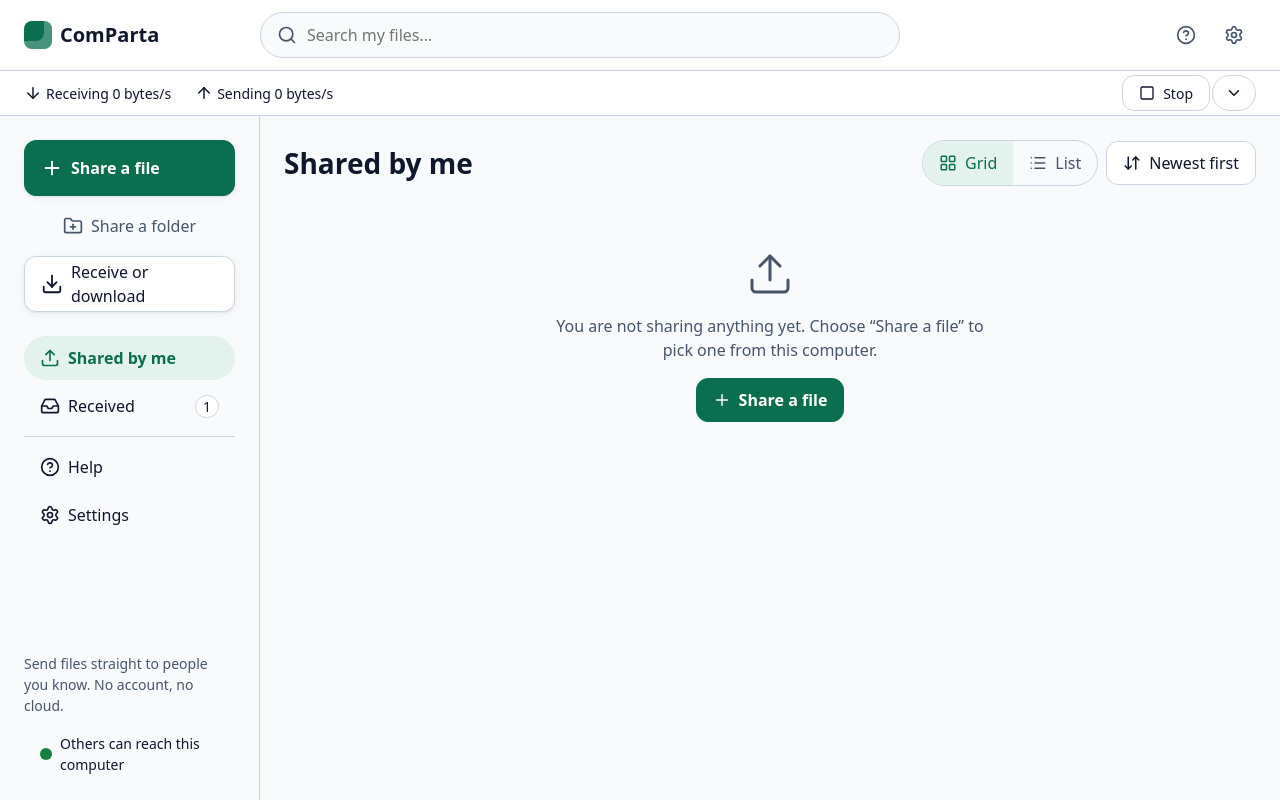
it: downloading from a link or a download file › offers no pause for a finished file
What coordinates should you click on to do the following:
click the button "Received 1"
I would click on:
 (130, 406)
Its box is [24, 384, 235, 428].
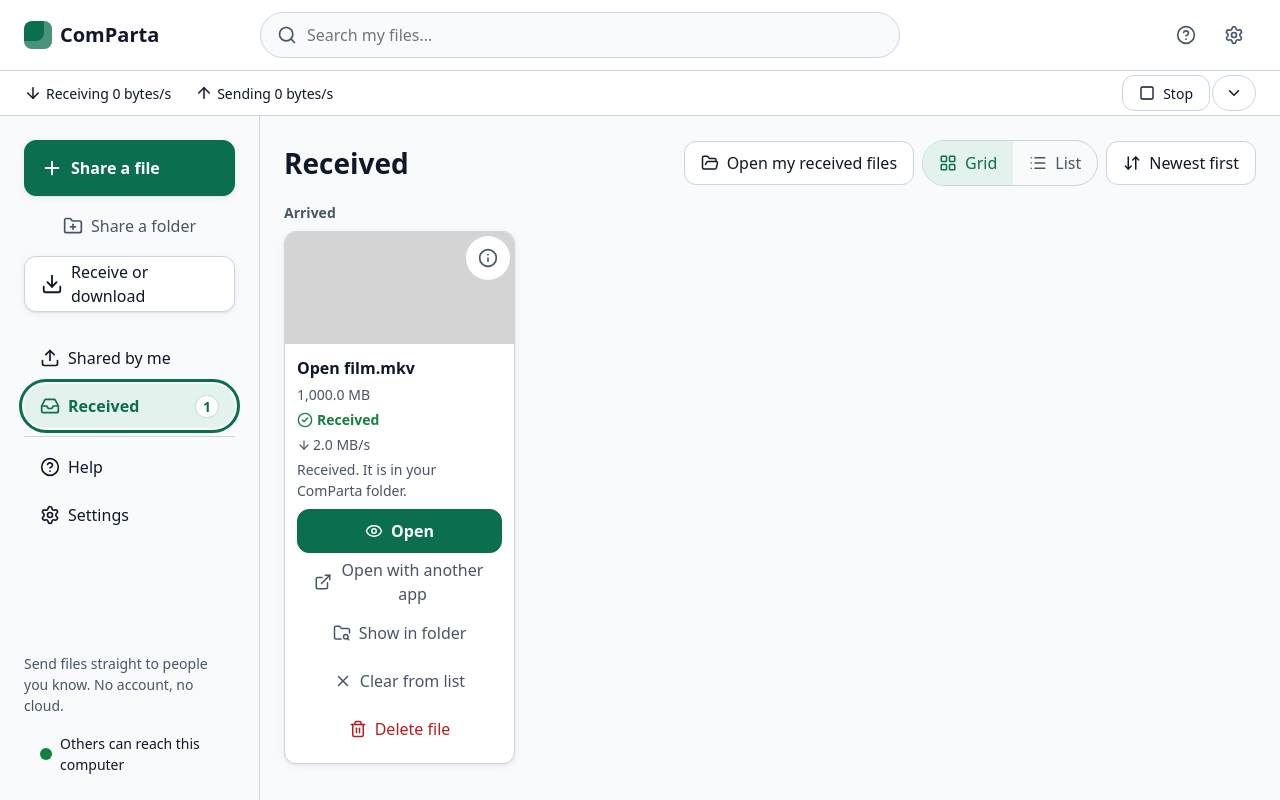
Check: the text "Open film.mkv" is shown, box [297, 356, 415, 380]
